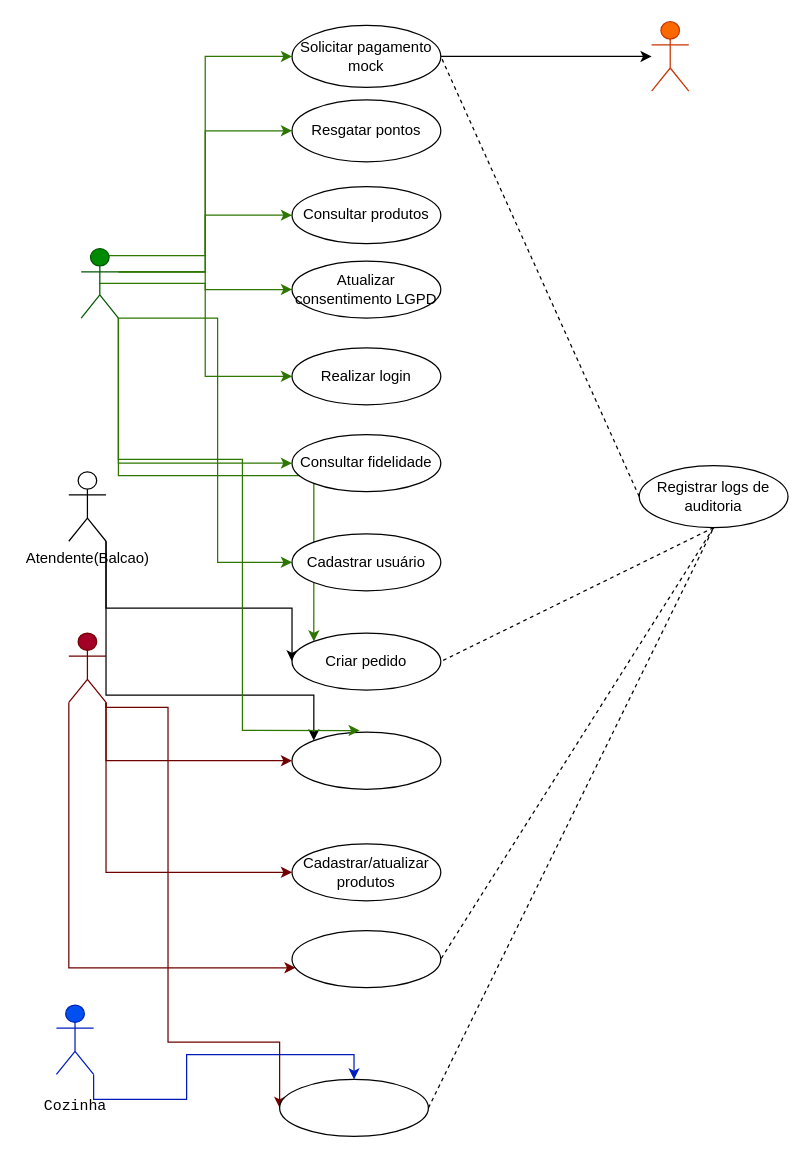
The diagram is 810 pixels wide and 1158 high, and some of its shapes have lost their labels. The shapes that lost their labels are listed below. From the top down, each one's centre as x and y in pixels, then its label:
At [669,55]: "Gateway de Pagamento Mock".
At [99,282]: "Cliente (WEB, APP ou TOTEM )".
At [87,667]: "Gerente/ Administrador".
At [366,760]: "Consultar pedidos".
At [366,958]: "Movimentar estoque".
At [353,1107]: "Atualizar status do pedido".
